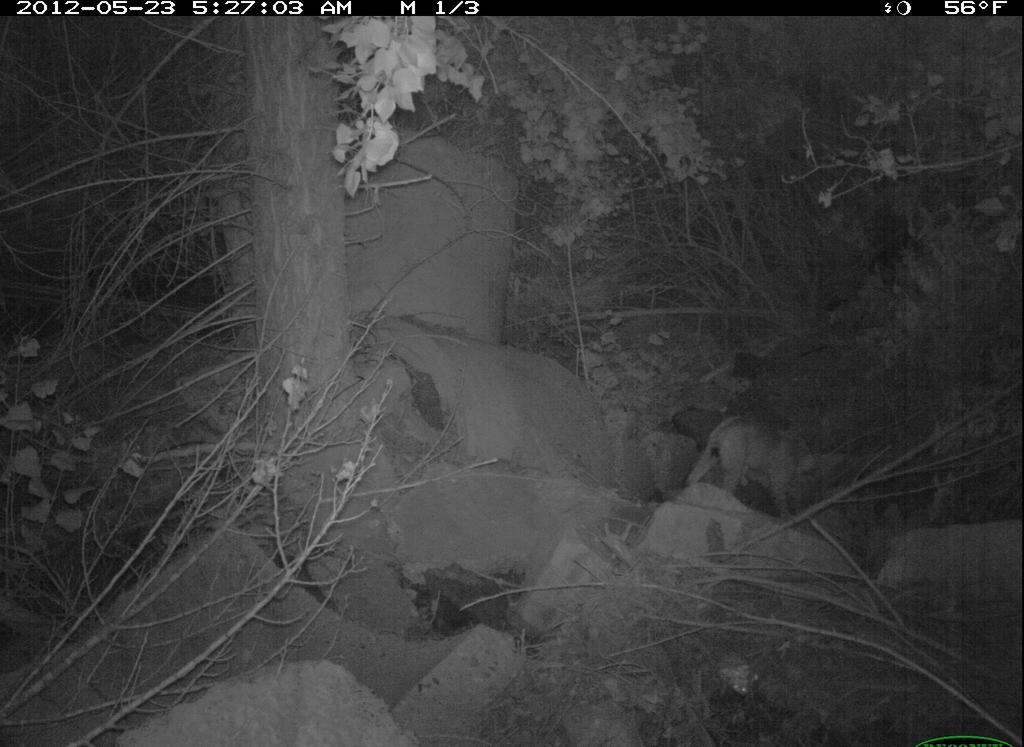bobcat: (689, 409, 833, 530)
